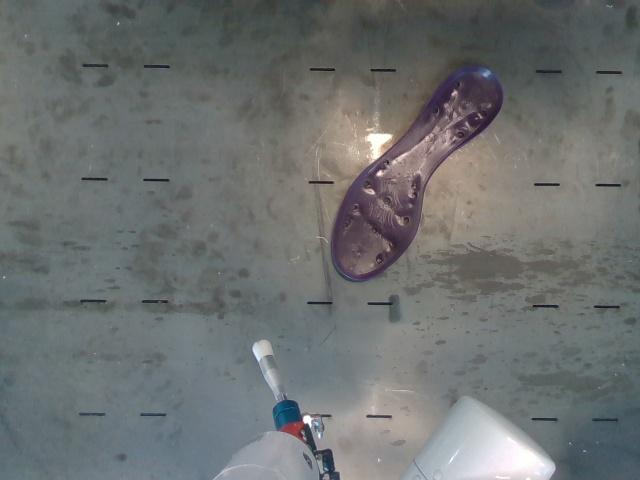shoes: (332, 66, 503, 280)
